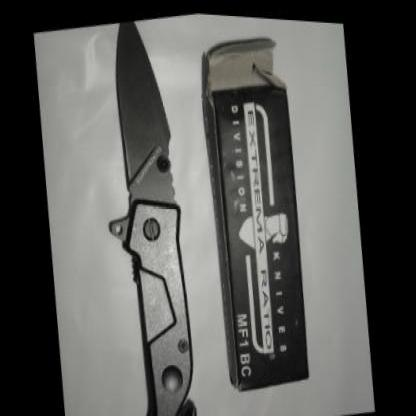knife: (84, 10, 198, 307)
